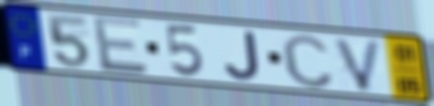5: (43, 13, 94, 69), (163, 22, 206, 79)
C: (279, 32, 337, 91)
E: (90, 14, 151, 76)
J: (222, 29, 263, 82)
V: (331, 36, 385, 94)
